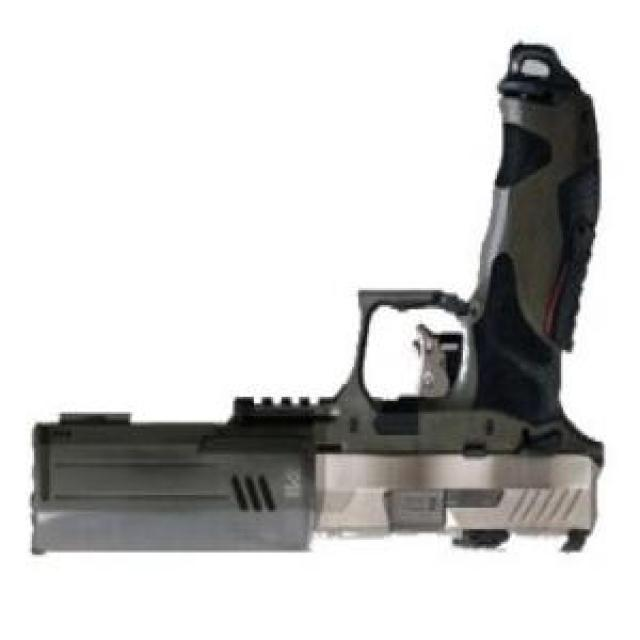pistol: (31, 49, 602, 550)
